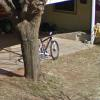Bicycle: (38, 29, 62, 61)
